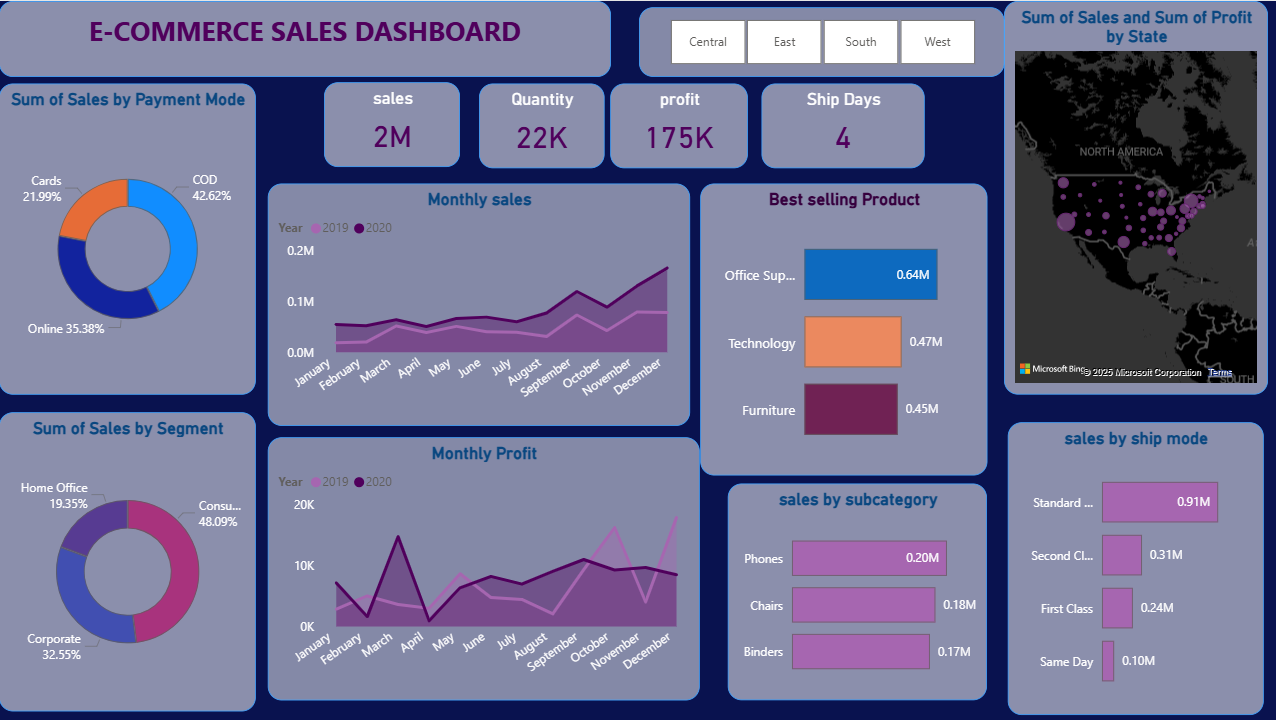

Layout of this report page (visuals, bound fields, positions):
{"tool":"powerbi","page":{"name":"Page 1","canvas":[1280,720],"ordinal":0},"visuals":[{"type":"clusteredBarChart","title":"sales by subcategory","fields":{"Category":["SuperStore_Sales_Dataset.Sub-Category"],"Y":["Sum(SuperStore_Sales_Dataset.Sales)"]},"box":[728.7,482.6,259.4,217.2],"z":0},{"type":"clusteredBarChart","title":"Best selling Product","fields":{"Category":["SuperStore_Sales_Dataset.Category"],"Y":["Sum(SuperStore_Sales_Dataset.Sales)"]},"box":[700.9,182.2,287.1,292],"z":1000},{"type":"clusteredBarChart","title":"sales by ship mode","fields":{"Category":["SuperStore_Sales_Dataset.Ship Mode","SuperStore_Sales_Dataset.Category"],"Y":["Sum(SuperStore_Sales_Dataset.Sales)"]},"box":[1008.6,421.4,255.7,292.9],"z":2000},{"type":"areaChart","title":"Monthly sales ","fields":{"Category":["SuperStore_Sales_Dataset.Order Date.Variation.Date Hierarchy.Month","SuperStore_Sales_Dataset.Order Date.Variation.Date Hierarchy.Day"],"Y":["Sum(SuperStore_Sales_Dataset.Sales)"],"Series":["SuperStore_Sales_Dataset.Order Date.Variation.Date Hierarchy.Year"]},"box":[269,182.2,422.3,242.5],"z":3000},{"type":"areaChart","title":"Monthly Profit","fields":{"Category":["SuperStore_Sales_Dataset.Order Date.Variation.Date Hierarchy.Month","SuperStore_Sales_Dataset.Order Date.Variation.Date Hierarchy.Day"],"Series":["SuperStore_Sales_Dataset.Order Date.Variation.Date Hierarchy.Year"],"Y":["Sum(SuperStore_Sales_Dataset.Profit)"]},"box":[269,436.7,431.9,263],"z":4000},{"type":"map","fields":{"Category":["SuperStore_Sales_Dataset.State"],"Size":["Sum(SuperStore_Sales_Dataset.Sales)"]},"box":[1005,0,264.2,393.3],"z":5000},{"type":"donutChart","fields":{"Category":["SuperStore_Sales_Dataset.Segment"],"Y":["Sum(SuperStore_Sales_Dataset.Sales)"]},"box":[0,411.4,257,299.2],"z":6000},{"type":"donutChart","fields":{"Y":["Sum(SuperStore_Sales_Dataset.Sales)"],"Category":["SuperStore_Sales_Dataset.Payment Mode"]},"box":[0,82,257,311.3],"z":7000},{"type":"slicer","fields":{"Values":["SuperStore_Sales_Dataset.Region"]},"box":[639.4,6,365.6,70],"z":8000},{"type":"textbox","box":[0,0,611.7,76],"z":9000},{"type":"card","title":" sales","fields":{"Values":["Sum(SuperStore_Sales_Dataset.Sales)"]},"box":[324.5,80.8,136.3,84.5],"z":10000},{"type":"card","title":"Quantity","fields":{"Values":["Sum(SuperStore_Sales_Dataset.Quantity)"]},"box":[480.2,82,125.5,84.5],"z":11000},{"type":"card","title":"profit","fields":{"Values":["Sum(SuperStore_Sales_Dataset.Profit)"]},"box":[611.7,82,137.5,84.5],"z":12000},{"type":"card","title":"Ship Days","fields":{"Values":["Avg(SuperStore_Sales_Dataset.AvgDelivery)"]},"box":[762.5,82,162.9,84.5],"z":13000}]}

Visuals, with their boxes in screenshot pixels (x1, y1, x2, y2), scaled from the page's 1280x720 canvas onto the 1276x720 screenshot:
"sales by subcategory" clusteredBarChart: (726,483,985,700)
"Best selling Product" clusteredBarChart: (699,182,985,474)
"sales by ship mode" clusteredBarChart: (1005,421,1260,714)
"Monthly sales " areaChart: (268,182,689,425)
"Monthly Profit" areaChart: (268,437,699,700)
map - SuperStore_Sales_Dataset.State x Sum(SuperStore_Sales_Dataset.Sales): (1002,0,1265,393)
donutChart - SuperStore_Sales_Dataset.Segment x Sum(SuperStore_Sales_Dataset.Sales): (0,411,256,711)
donutChart - Sum(SuperStore_Sales_Dataset.Sales) x SuperStore_Sales_Dataset.Payment Mode: (0,82,256,393)
slicer - SuperStore_Sales_Dataset.Region: (637,6,1002,76)
textbox: (0,0,610,76)
" sales" card: (323,81,459,165)
"Quantity" card: (479,82,604,166)
"profit" card: (610,82,747,166)
"Ship Days" card: (760,82,923,166)
